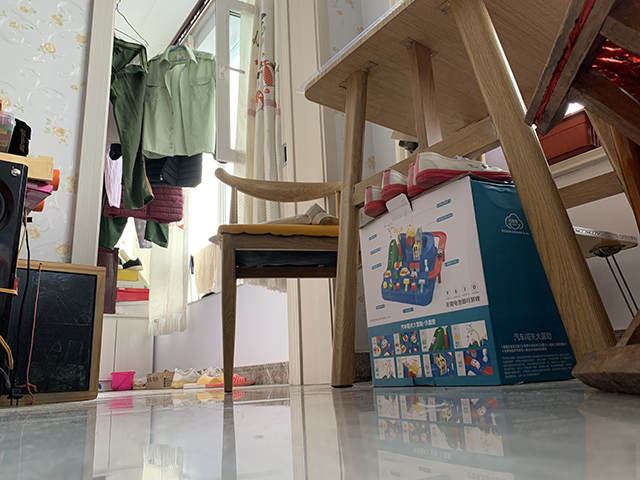slippers: (204, 370, 257, 389)
stool: (207, 166, 353, 393)
table: (300, 1, 637, 389)
